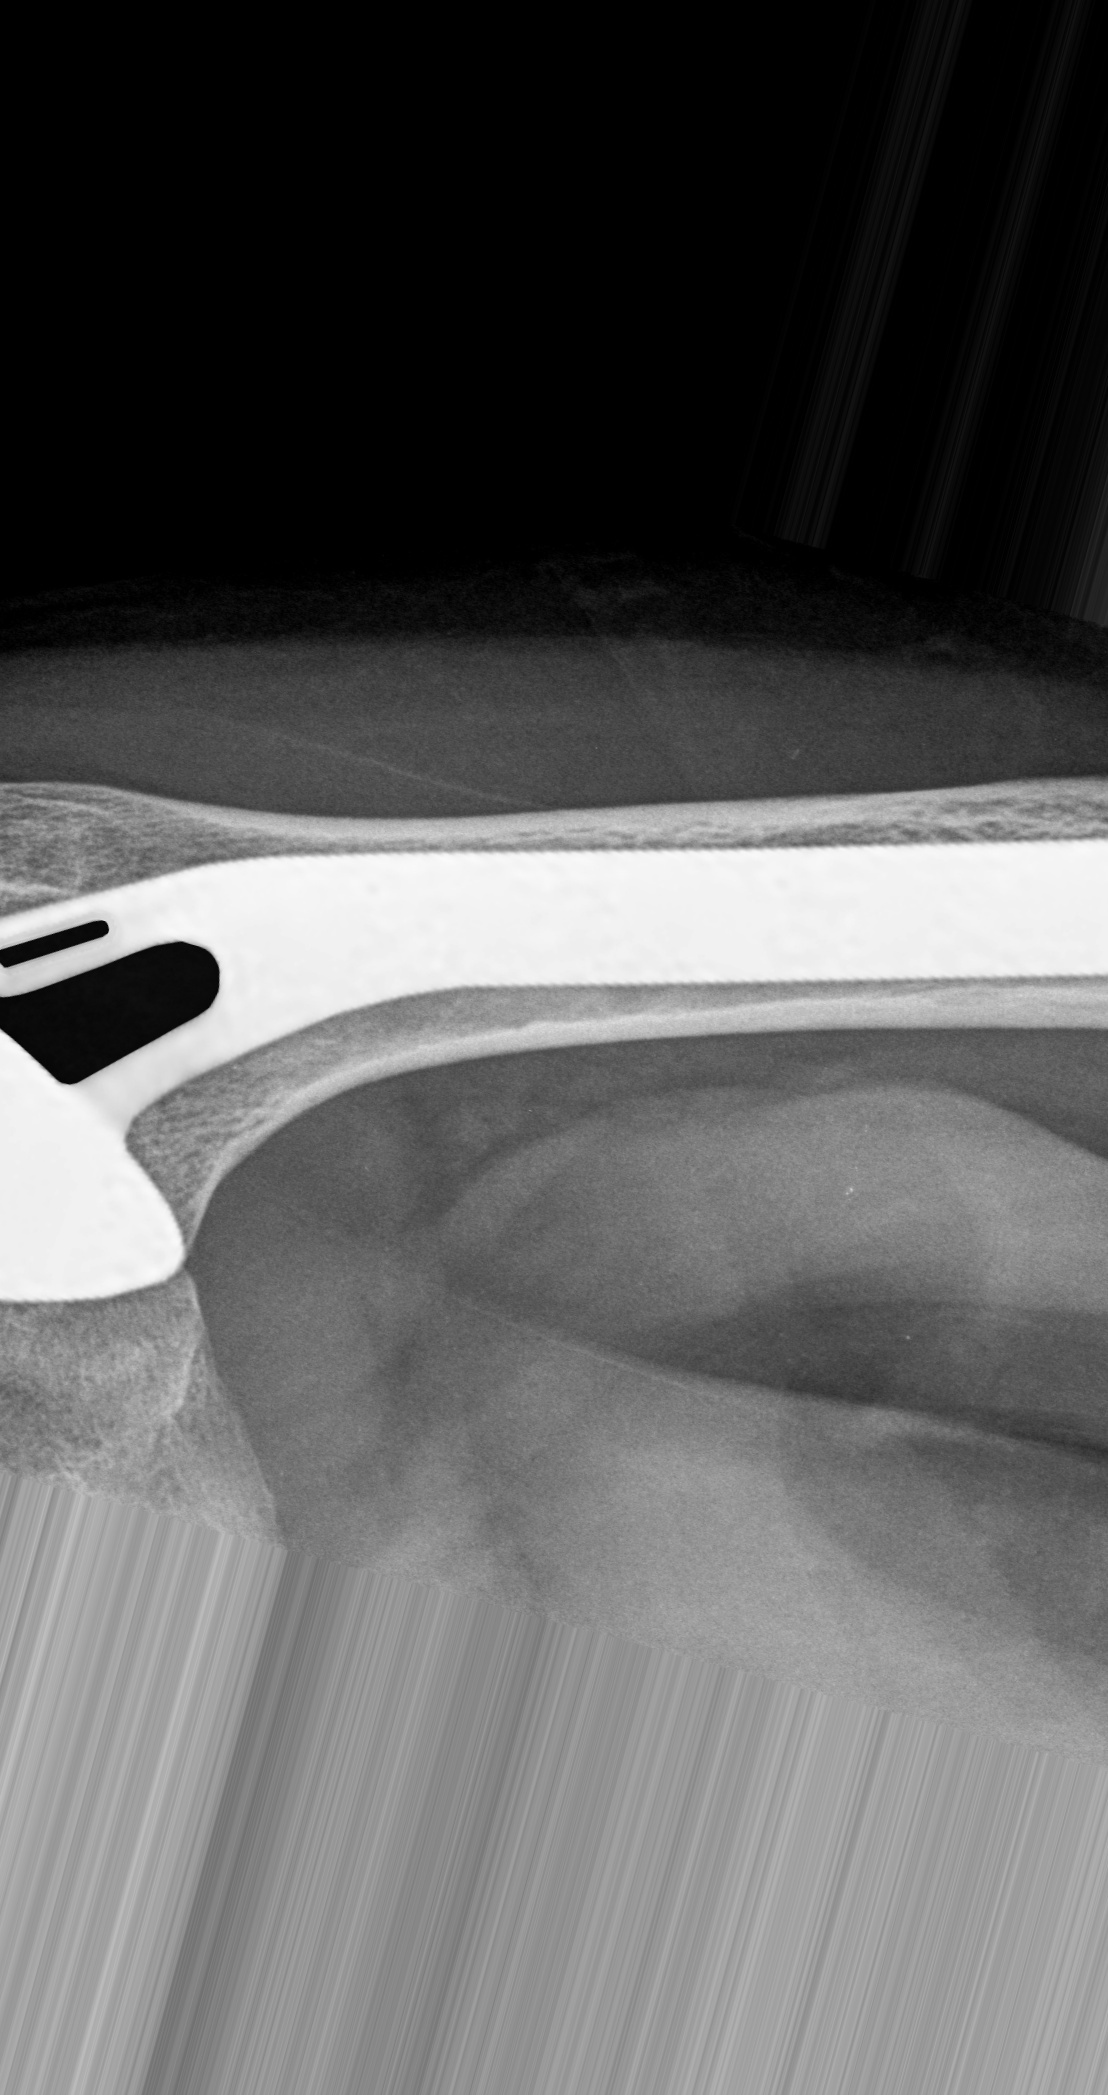Shoulder - AequalisFracture - Tornier: (3, 812, 283, 1343)
